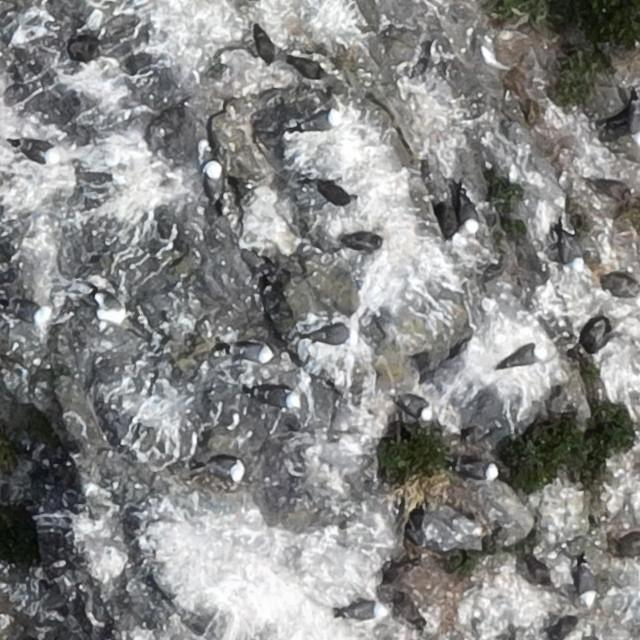umineko: (13, 137, 59, 166), (306, 322, 356, 348), (502, 344, 546, 368), (10, 303, 50, 324), (314, 182, 352, 204), (207, 460, 244, 480), (300, 112, 338, 131), (257, 388, 296, 406), (404, 398, 433, 422), (459, 198, 478, 234), (461, 463, 497, 481), (348, 604, 383, 622), (204, 161, 222, 195), (236, 343, 270, 361), (578, 566, 592, 601), (630, 108, 639, 142)
